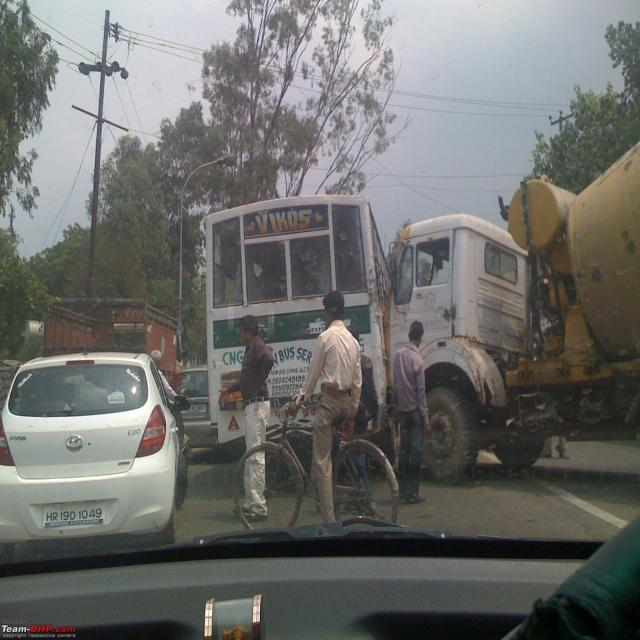bicycle: (234, 292, 399, 528)
bus: (206, 195, 391, 443)
car: (0, 352, 190, 561), (177, 367, 218, 448)
truck: (389, 142, 640, 483), (44, 298, 178, 375)
